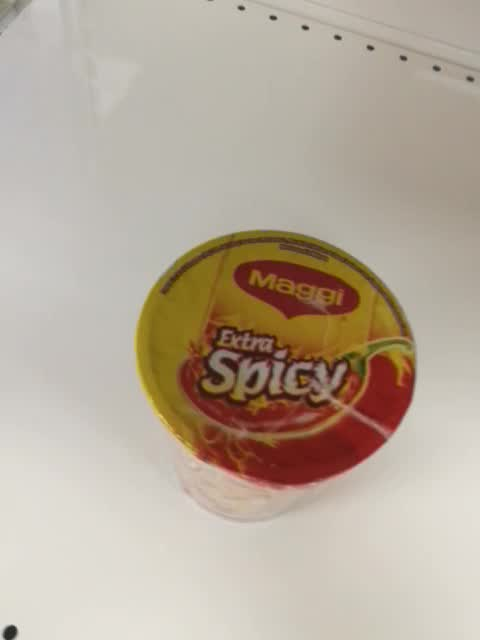maggi: (134, 229, 417, 526)
